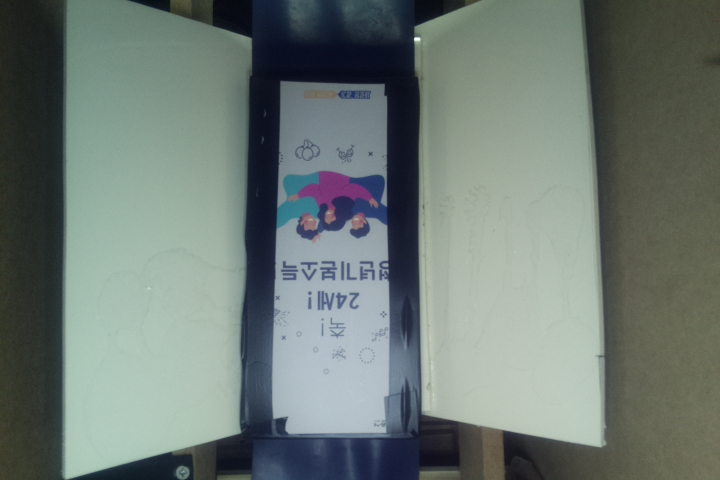book: (241, 76, 419, 438)
